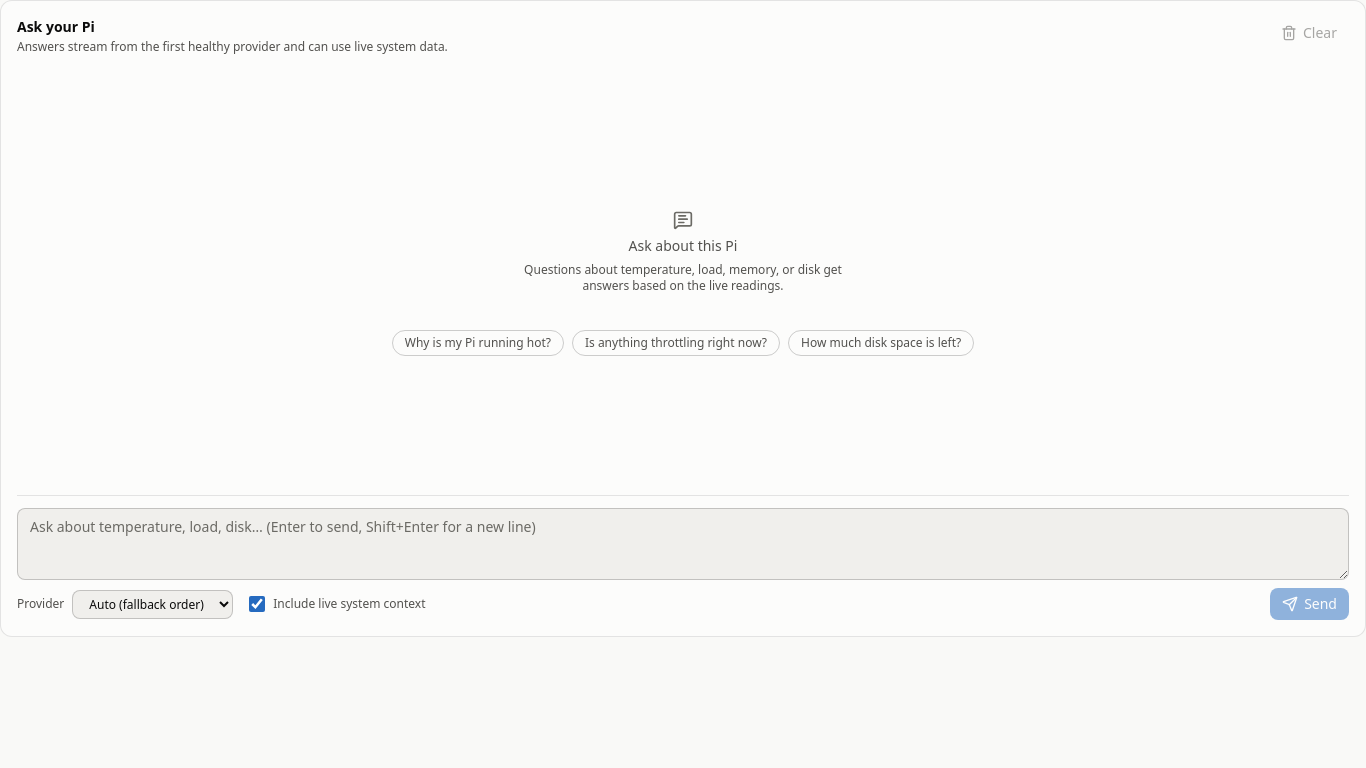
Test case: ChatPanel › reports a stream that ends without a done event
In the text box named "Message": (683, 544) top-left (17, 508), bottom-right (1349, 580), type "Hi"
Then press Enter
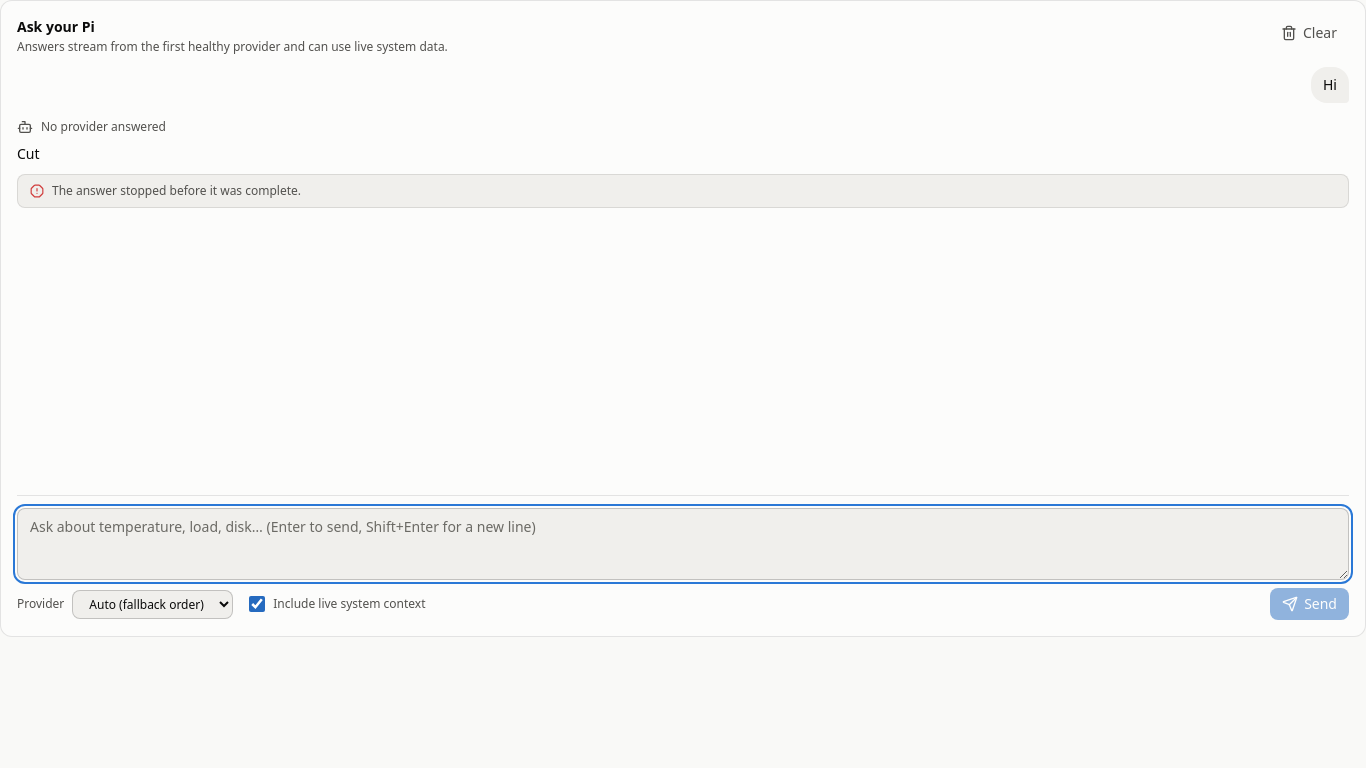
expect the text "The answer stopped before it was complete." is shown: met, box top-left (52, 183), bottom-right (301, 199)
